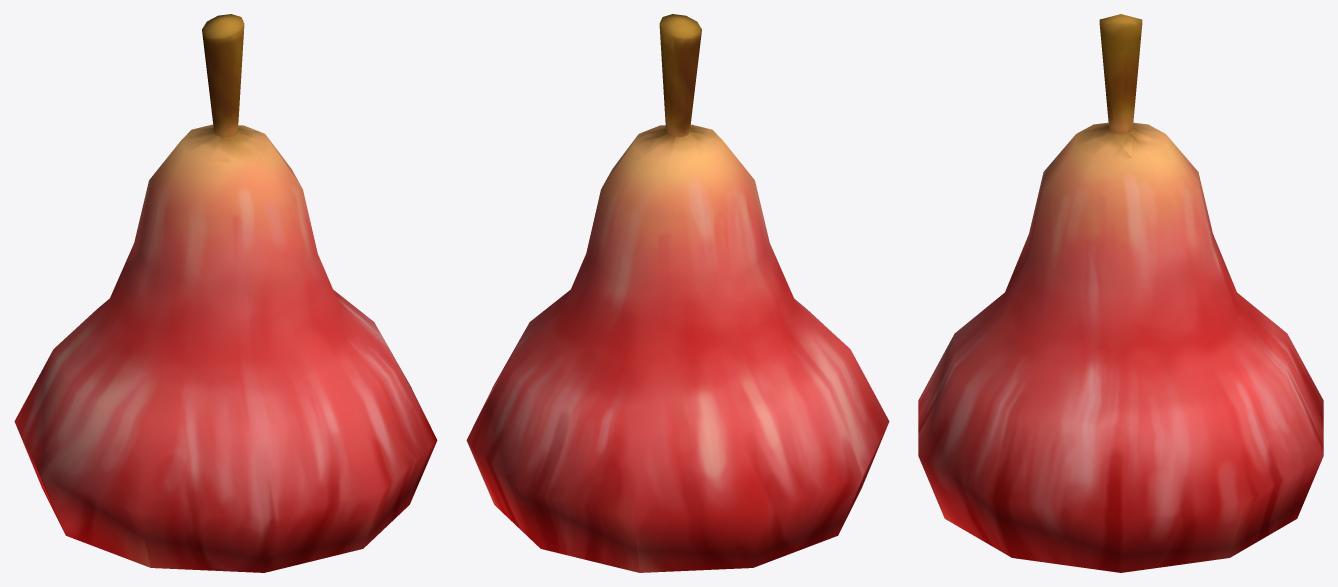
Rendered from water apple.fbx.
The picture shows the model from 3 angles, left to right: view 1: azimuth 30°, elevation 25°; view 2: azimuth 150°, elevation 25°; view 3: azimuth 270°, elevation 25°; orthographic projection.
Visible parts, largest first — view 1: water apple; view 2: water apple; view 3: water apple.
Boxes of the visible parts, x1,y1,x2,y2 form: water apple: [14, 14, 437, 572]; water apple: [466, 14, 889, 572]; water apple: [918, 14, 1323, 572].
Bounding box in the file's own units: 1.64 × 2.15 × 1.56.
